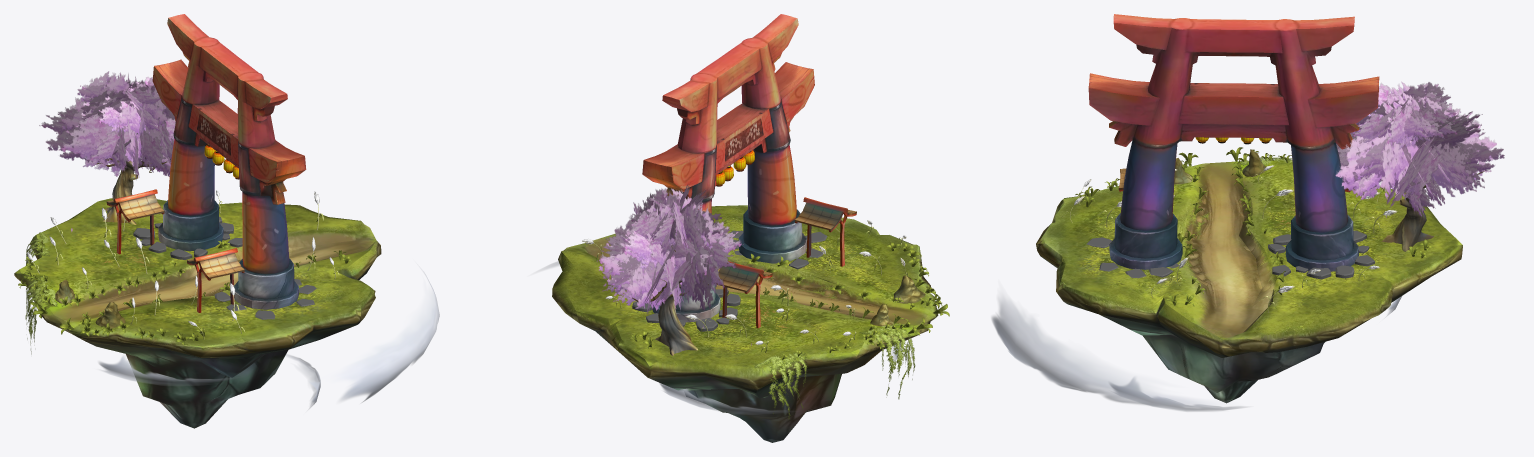
The model's file is islandd.glb.
3 views of the same model, side by side, from view 1: azimuth 30°, elevation 25°; view 2: azimuth 150°, elevation 25°; view 3: azimuth 270°, elevation 25° (orthographic). The views are drawn at different scales.
Visible parts, largest first — view 1: tierra.001, portal.001, nube001, techoaljibe, Plane809, sakuraplano009, lajas.001, colgante, sakura.001, RetopoGroup003.001, sakuraplano012, sakuraplano036 (+6 smaller); view 2: tierra.001, portal.001, techoaljibe, colgante, Plane809, lajas.001, sakura.001, nube001, sakuraplano040, RetopoGroup003.001, sakuraplano015, sakuraplano046 (+5 smaller); view 3: tierra.001, portal.001, nube001, Plane809, lajas.001, sakuraplano008, sakura.001, sakuraplano043, sakuraplano003, sakuraplano015, sakuraplano054, sakuraplano007 (+4 smaller).
Boxes of the visible parts, box(x1,y1,x2,y2) form: tierra.001: box(14, 198, 381, 428); portal.001: box(152, 14, 306, 309); nube001: box(98, 266, 439, 408); techoaljibe: box(106, 189, 244, 312); Plane809: box(18, 239, 351, 345); sakuraplano009: box(58, 111, 132, 176); lajas.001: box(133, 216, 316, 319); colgante: box(25, 232, 57, 354); sakura.001: box(96, 157, 170, 224); RetopoGroup003.001: box(54, 279, 125, 328); sakuraplano012: box(137, 130, 165, 172); sakuraplano036: box(88, 131, 135, 163); tierra.001: box(552, 205, 938, 442); portal.001: box(642, 14, 814, 322); techoaljibe: box(714, 197, 856, 328); colgante: box(754, 324, 915, 419); Plane809: box(630, 242, 949, 359); lajas.001: box(632, 230, 827, 331); sakura.001: box(629, 244, 715, 355); nube001: box(539, 261, 900, 414); sakuraplano040: box(613, 258, 672, 308); RetopoGroup003.001: box(870, 275, 925, 326); sakuraplano015: box(627, 262, 662, 310); sakuraplano046: box(598, 249, 640, 302); tierra.001: box(1036, 160, 1462, 403); portal.001: box(1088, 14, 1379, 271); nube001: box(991, 294, 1401, 411); Plane809: box(1075, 147, 1433, 306); lajas.001: box(1086, 230, 1374, 279); sakuraplano008: box(1335, 117, 1418, 191); sakura.001: box(1379, 137, 1485, 251); sakuraplano043: box(1380, 129, 1412, 200); sakuraplano003: box(1427, 142, 1476, 196); sakuraplano015: box(1446, 142, 1504, 172); sakuraplano054: box(1386, 102, 1417, 149); sakuraplano007: box(1402, 144, 1443, 200).
Bounding box in the file's own units: 264 × 234 × 285.
15 materials, 13 textured.
